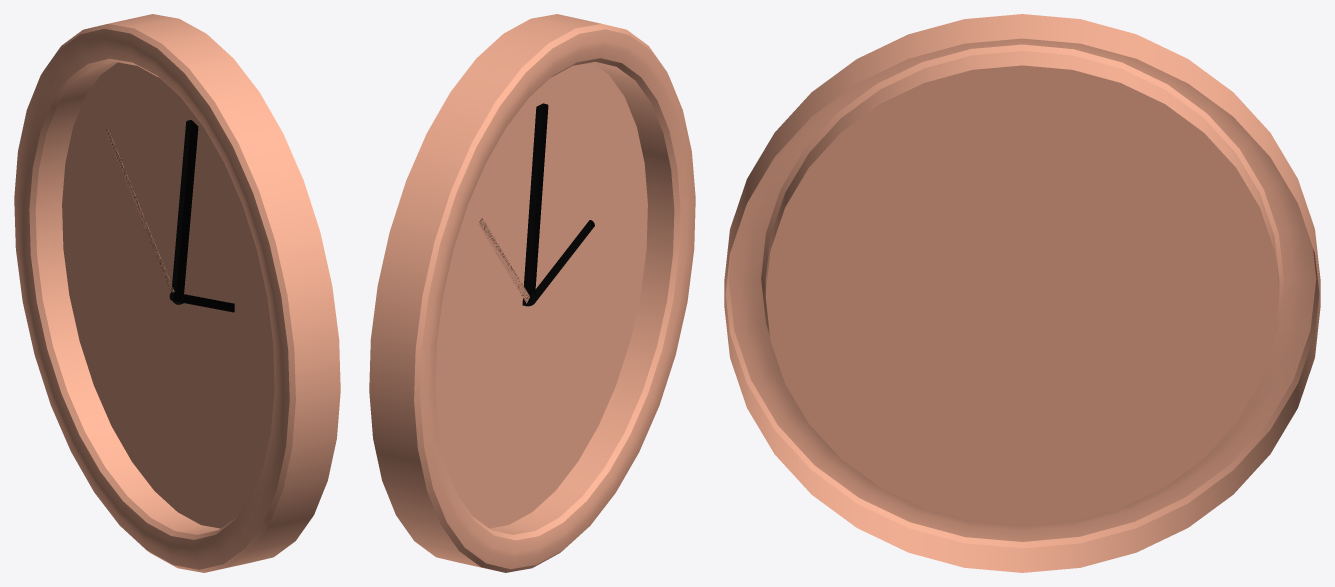
The model's file is Clock.fbx.
3 views of the same model, side by side, from view 1: azimuth 30°, elevation 25°; view 2: azimuth 150°, elevation 25°; view 3: azimuth 270°, elevation 25° (orthographic). The views are drawn at different scales.
Visible parts, largest first — view 1: Clock; view 2: Clock; view 3: Clock.
Part boxes in pixels (<box>): Clock: <box>14,14,340,572</box>; Clock: <box>369,14,695,572</box>; Clock: <box>724,14,1320,572</box>.
Size of the model in its own units: 6.07 by 47.68 by 47.58.
